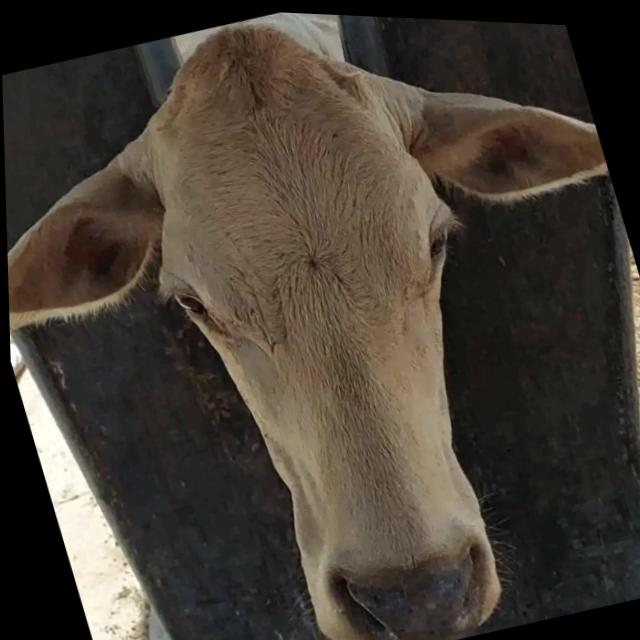cowFace: (102, 4, 566, 640)
